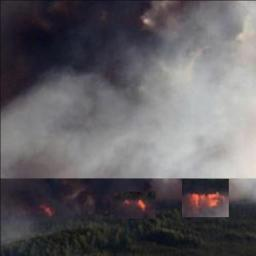Heavy smoke: (0, 0, 256, 235)
Small fire: (176, 191, 238, 209)
